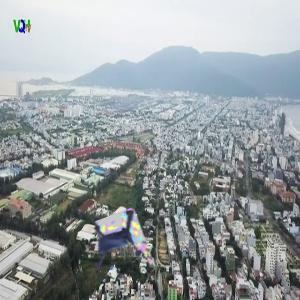drone: (77, 218, 152, 293)
